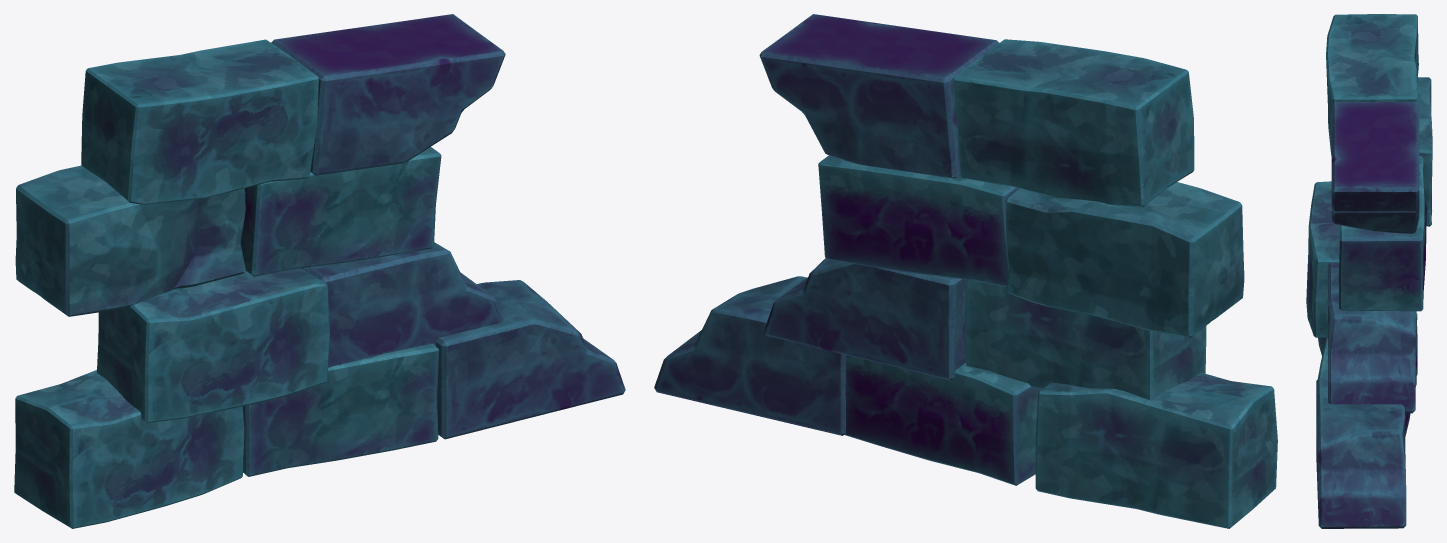
The model's file is ModularWallEnd.fbx.
3 renders of one model, left to right at view 1: azimuth 30°, elevation 25°; view 2: azimuth 150°, elevation 25°; view 3: azimuth 270°, elevation 25°, orthographic. The views are drawn at different scales.
Parts seen in each view (by area): view 1: SM_ModularWallEnd; view 2: SM_ModularWallEnd; view 3: SM_ModularWallEnd.
Boxes of the visible parts, left/top/right/bottom form: SM_ModularWallEnd: left=14, top=14, right=625, bottom=528; SM_ModularWallEnd: left=654, top=14, right=1277, bottom=528; SM_ModularWallEnd: left=1306, top=14, right=1432, bottom=528.
Size of the model in its own units: 151 by 103 by 36.
4 materials, 4 textured.
